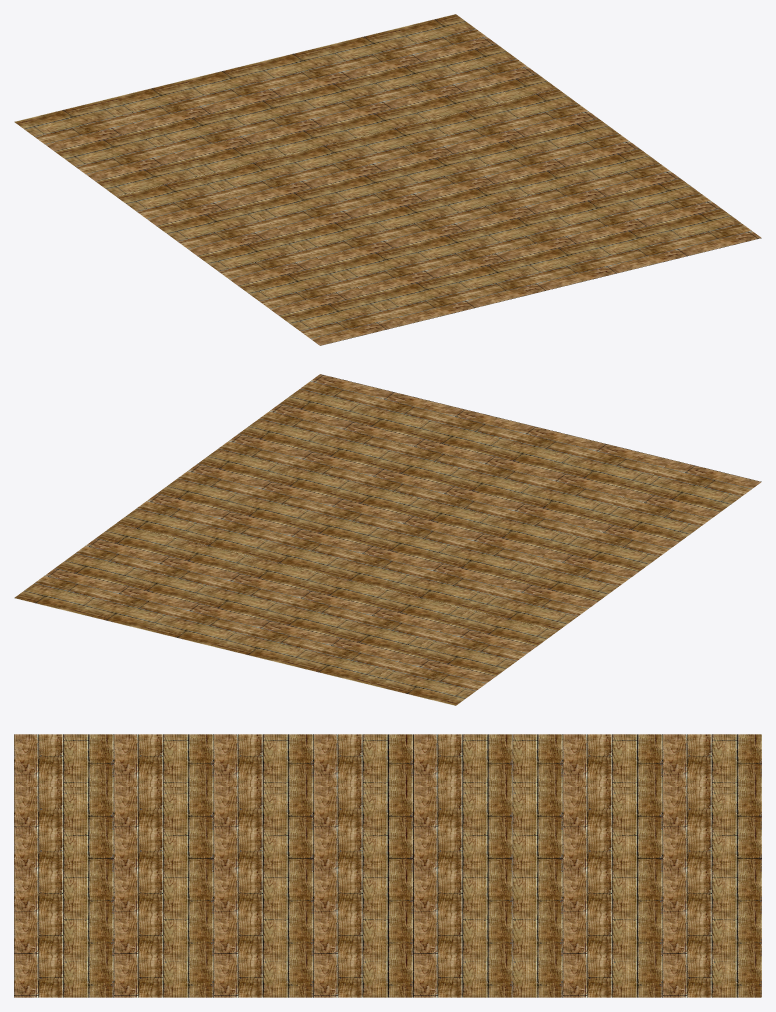
File: LAKETOWN_WAREHOUSE2_PS_WH2_FLOOR04049.fbx
3 views of the same model, one above another, from view 1: azimuth 30°, elevation 25°; view 2: azimuth 150°, elevation 25°; view 3: azimuth 270°, elevation 25° (orthographic). The views are drawn at different scales.
Visible parts, largest first — view 1: LAKETOWN_WAREHOUSE2_PS_WH2_FLOOR04049; view 2: LAKETOWN_WAREHOUSE2_PS_WH2_FLOOR04049; view 3: LAKETOWN_WAREHOUSE2_PS_WH2_FLOOR04049.
Boxes of the visible parts, x1,y1,x2,y2 form: LAKETOWN_WAREHOUSE2_PS_WH2_FLOOR04049: (14,14,761,345); LAKETOWN_WAREHOUSE2_PS_WH2_FLOOR04049: (14,374,761,705); LAKETOWN_WAREHOUSE2_PS_WH2_FLOOR04049: (14,734,761,997).
Bounding box in the file's own units: 199032 × 0.0748 × 238839.
Materials: 1 (1 with a texture image).
